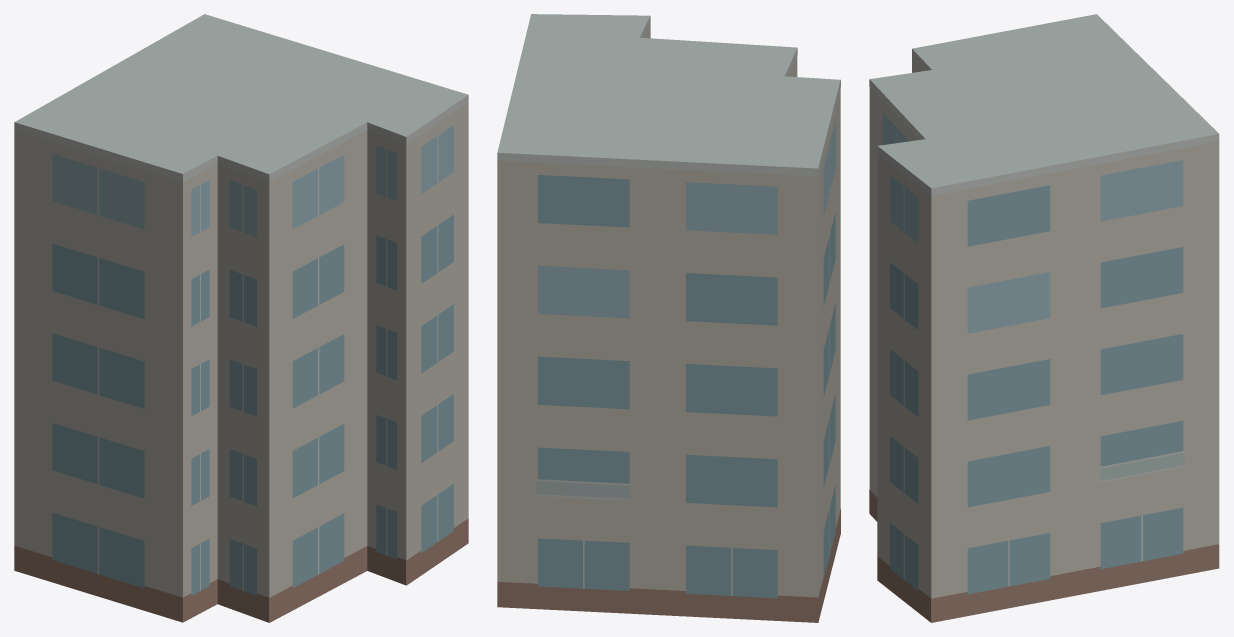
Rendered from survey-upis-32812634.glb.
The picture shows the model from 3 angles, left to right: view 1: azimuth 30°, elevation 25°; view 2: azimuth 150°, elevation 25°; view 3: azimuth 270°, elevation 25°; orthographic projection. The views are drawn at different scales.
Visible parts, largest first — view 1: survey-upis-32812634.tmp; view 2: survey-upis-32812634.tmp; view 3: survey-upis-32812634.tmp.
Part boxes in pixels (bbox=[...]): survey-upis-32812634.tmp: bbox=[14, 14, 468, 622]; survey-upis-32812634.tmp: bbox=[497, 14, 840, 622]; survey-upis-32812634.tmp: bbox=[869, 14, 1219, 622].
Bounding box in the file's own units: 12.06 × 14 × 10.23.
